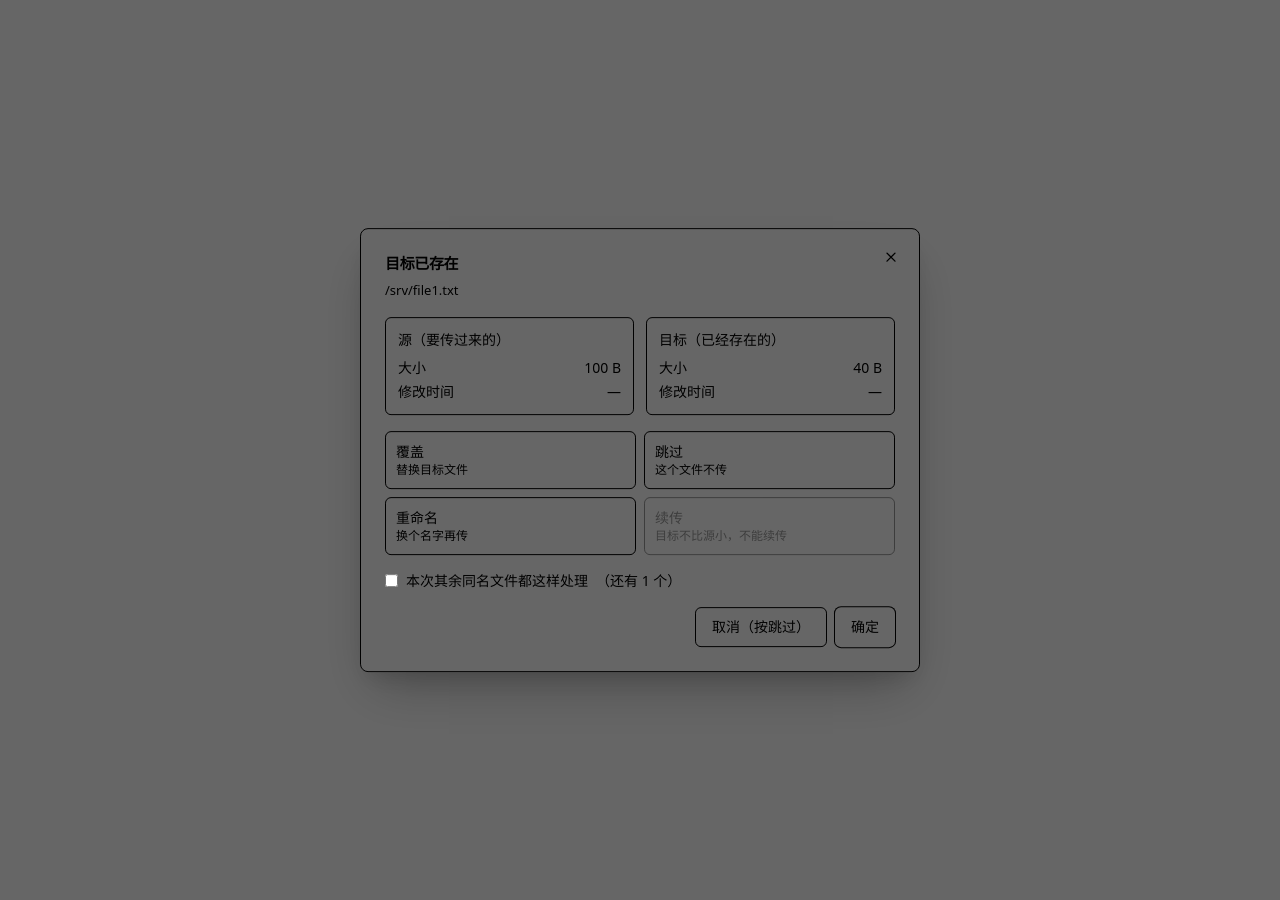
全部应用对整个批次生效（SFTP-7） › 「取消（按跳过）」只跳过当前这条，不算全部应用
The width and height of the screenshot is (1280, 900).
Click the checkbox labelled "本次其余同名文件都这样处理 （还有 1 个）": (392, 581) top-left (385, 574), bottom-right (398, 587)
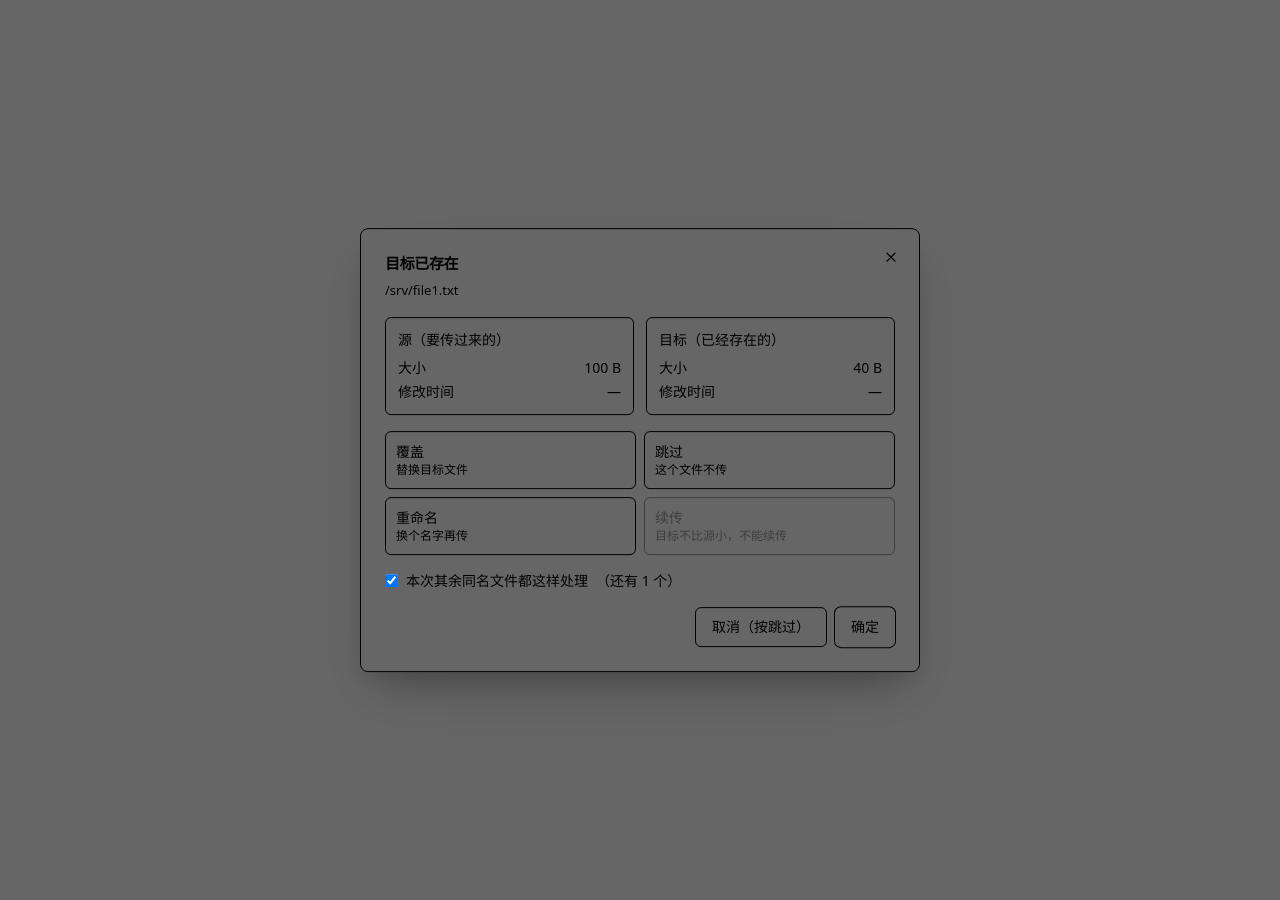
Click the button "取消（按跳过）": (761, 627) top-left (695, 607), bottom-right (827, 647)
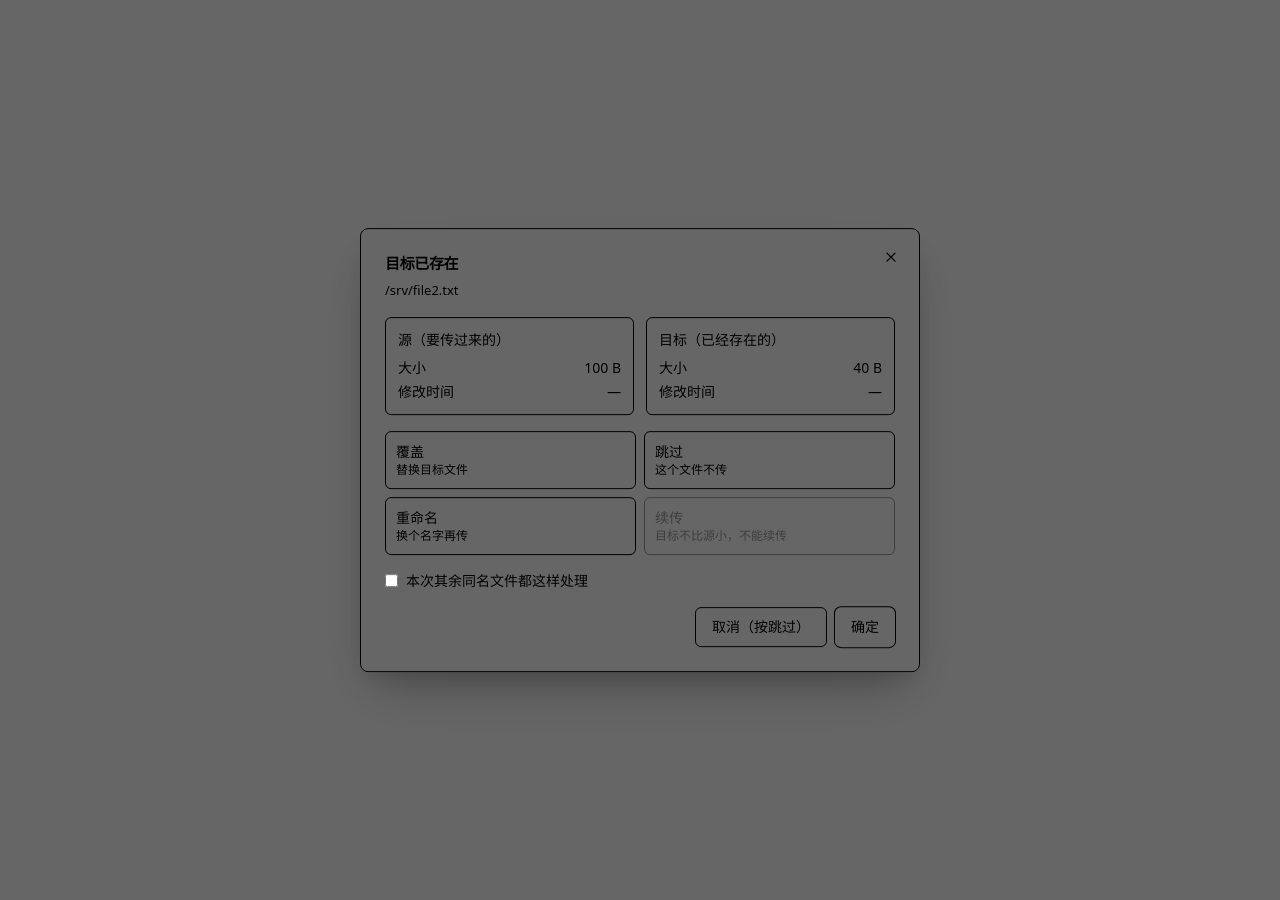
Now the text "/srv/file2.txt" is shown, box top-left (385, 281), bottom-right (459, 299)
